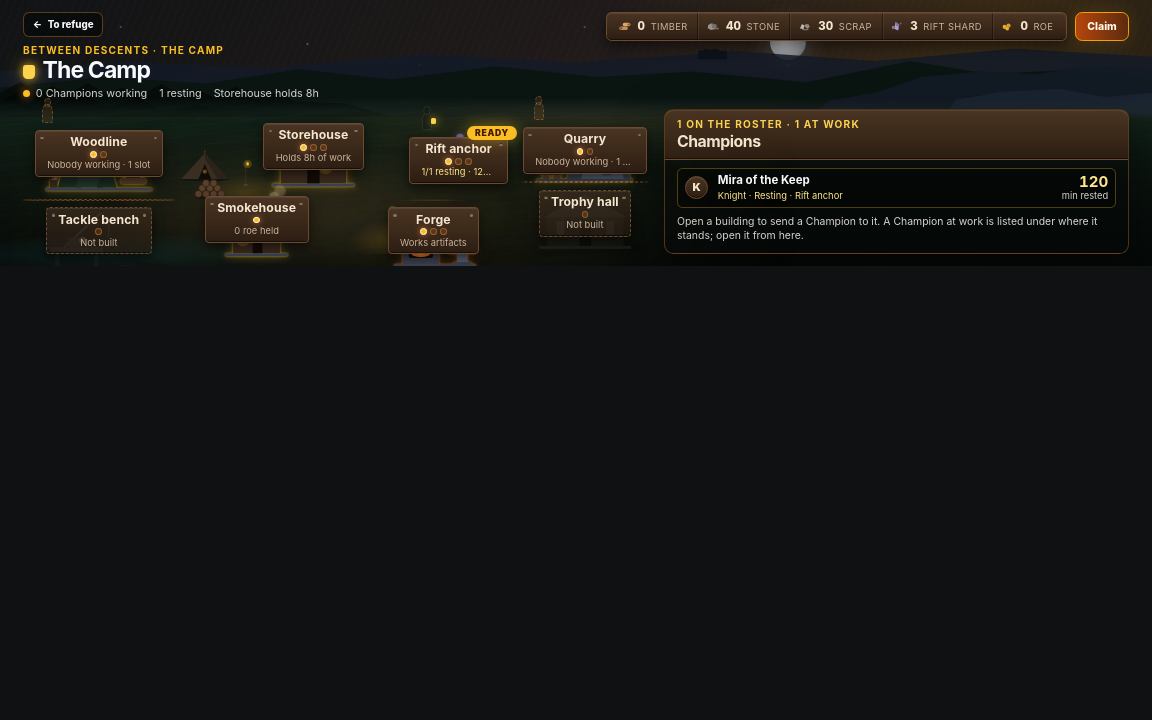
Test: CampScreen › refuses a finished artifact at the Forge and says so on its row
Click the button "Forge Works artifacts".
click(433, 222)  # box [364, 190, 503, 254]
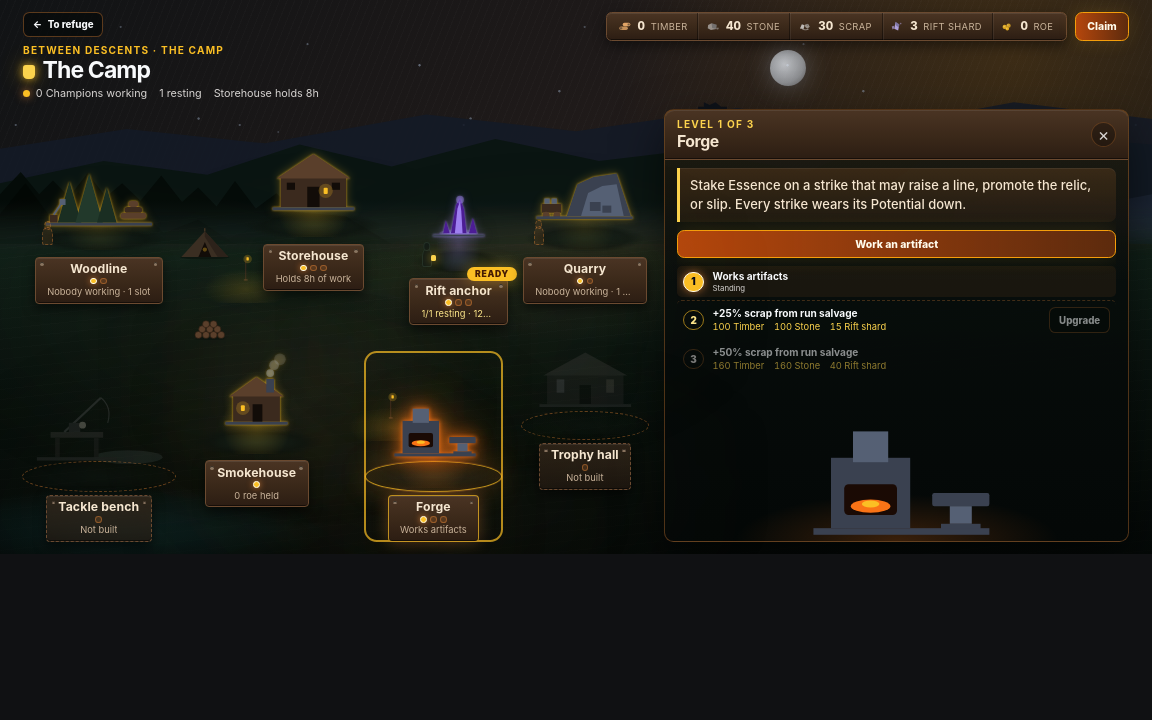
Now the heading "Forge" is shown, box [677, 132, 719, 151]
Click the button "Work an artifact".
click(897, 244)  # box [677, 230, 1116, 258]
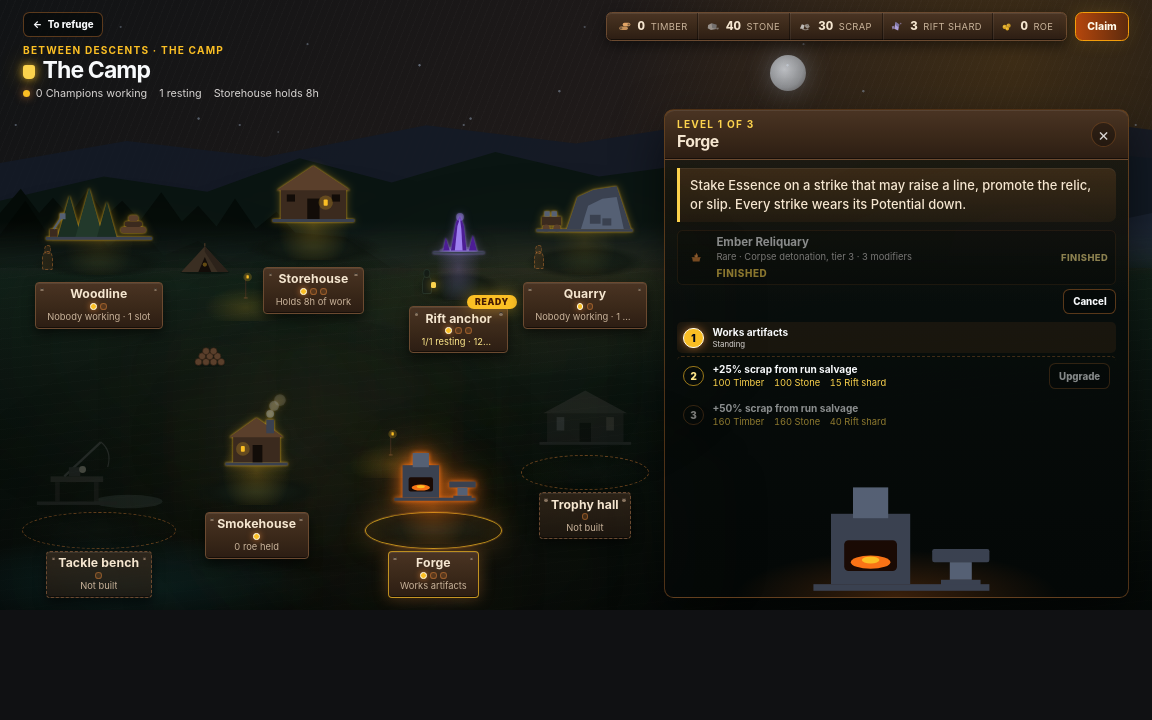
Now the button with aria-label "Work Ember Reliquary, Rare" is disabled, box [677, 230, 1116, 285]
Now the button with aria-label "Work Ember Reliquary, Rare" shows "Finished", box [677, 230, 1116, 285]
